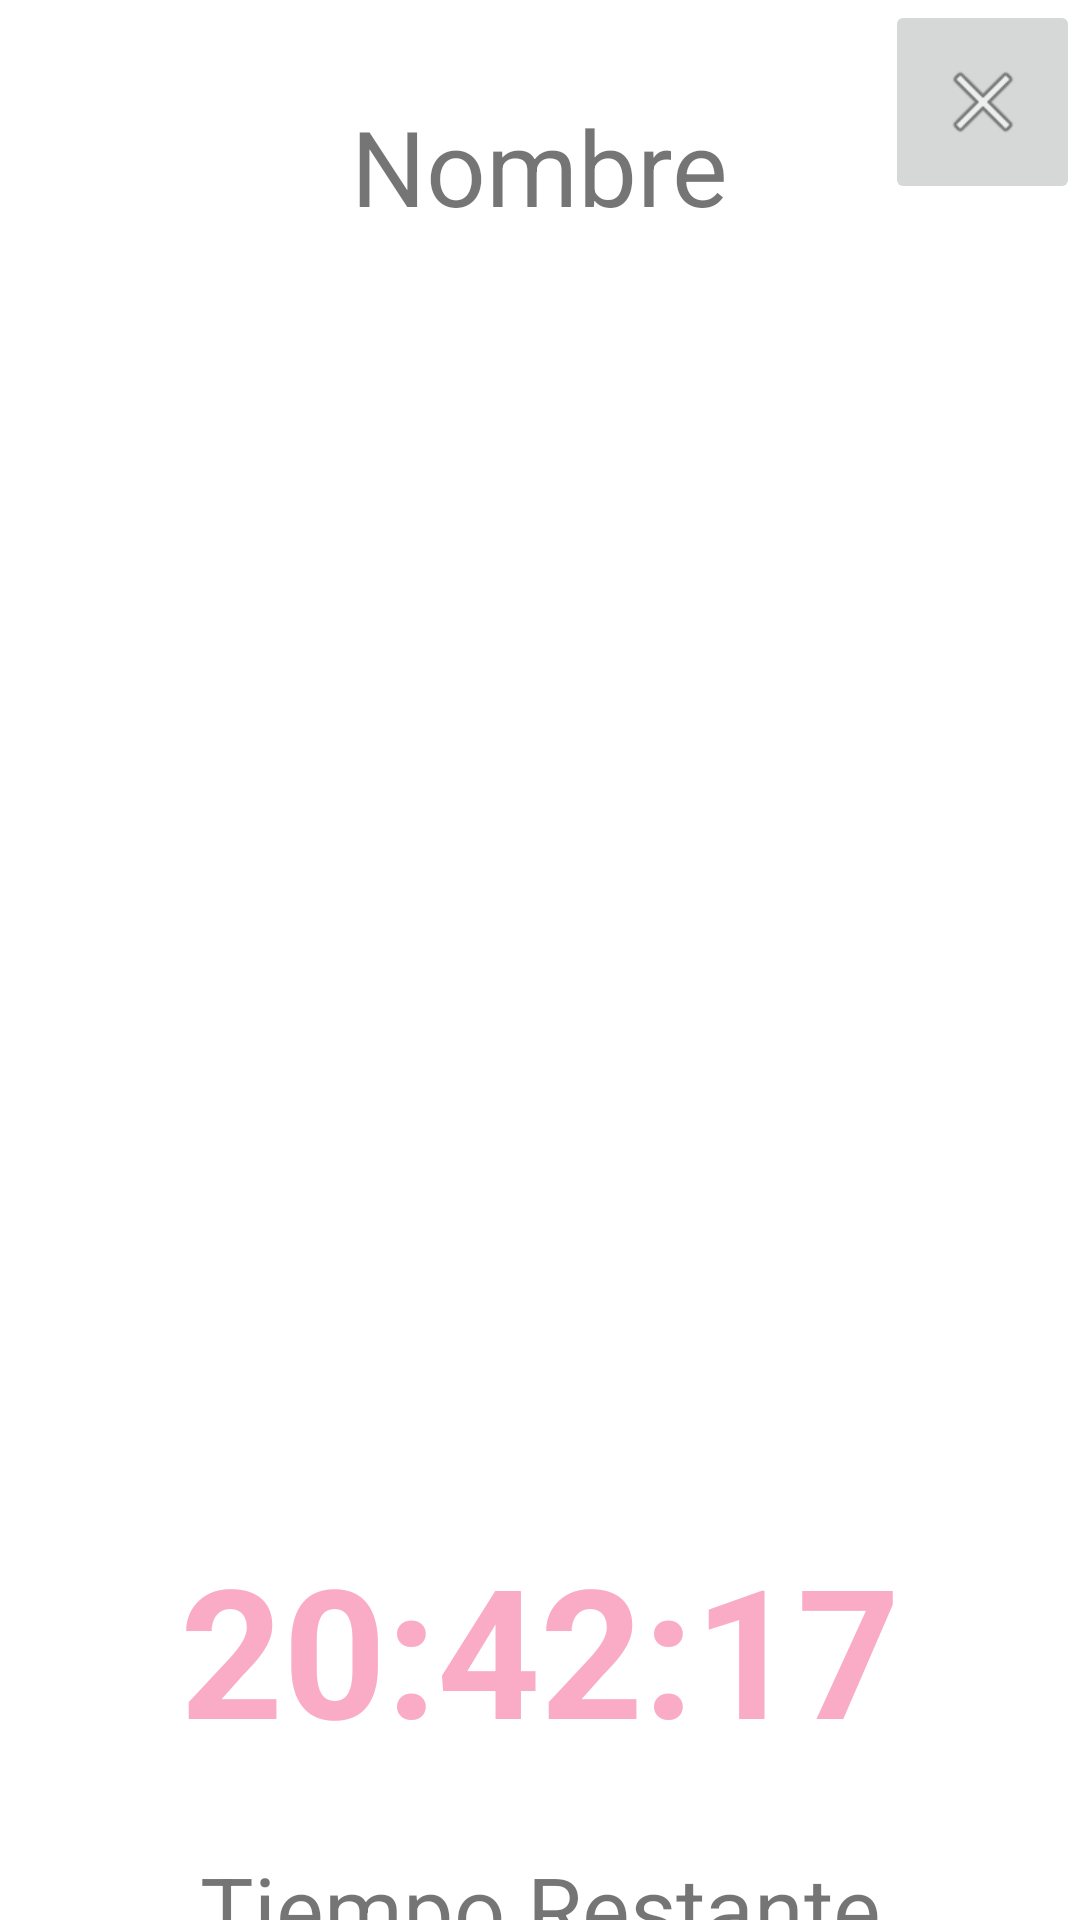

Locate icon controls on the screen. Image size 1080w x 1920h, boxes as (x1, y1, x2, y2).
close clear cancel: (897, 18, 1068, 186)
